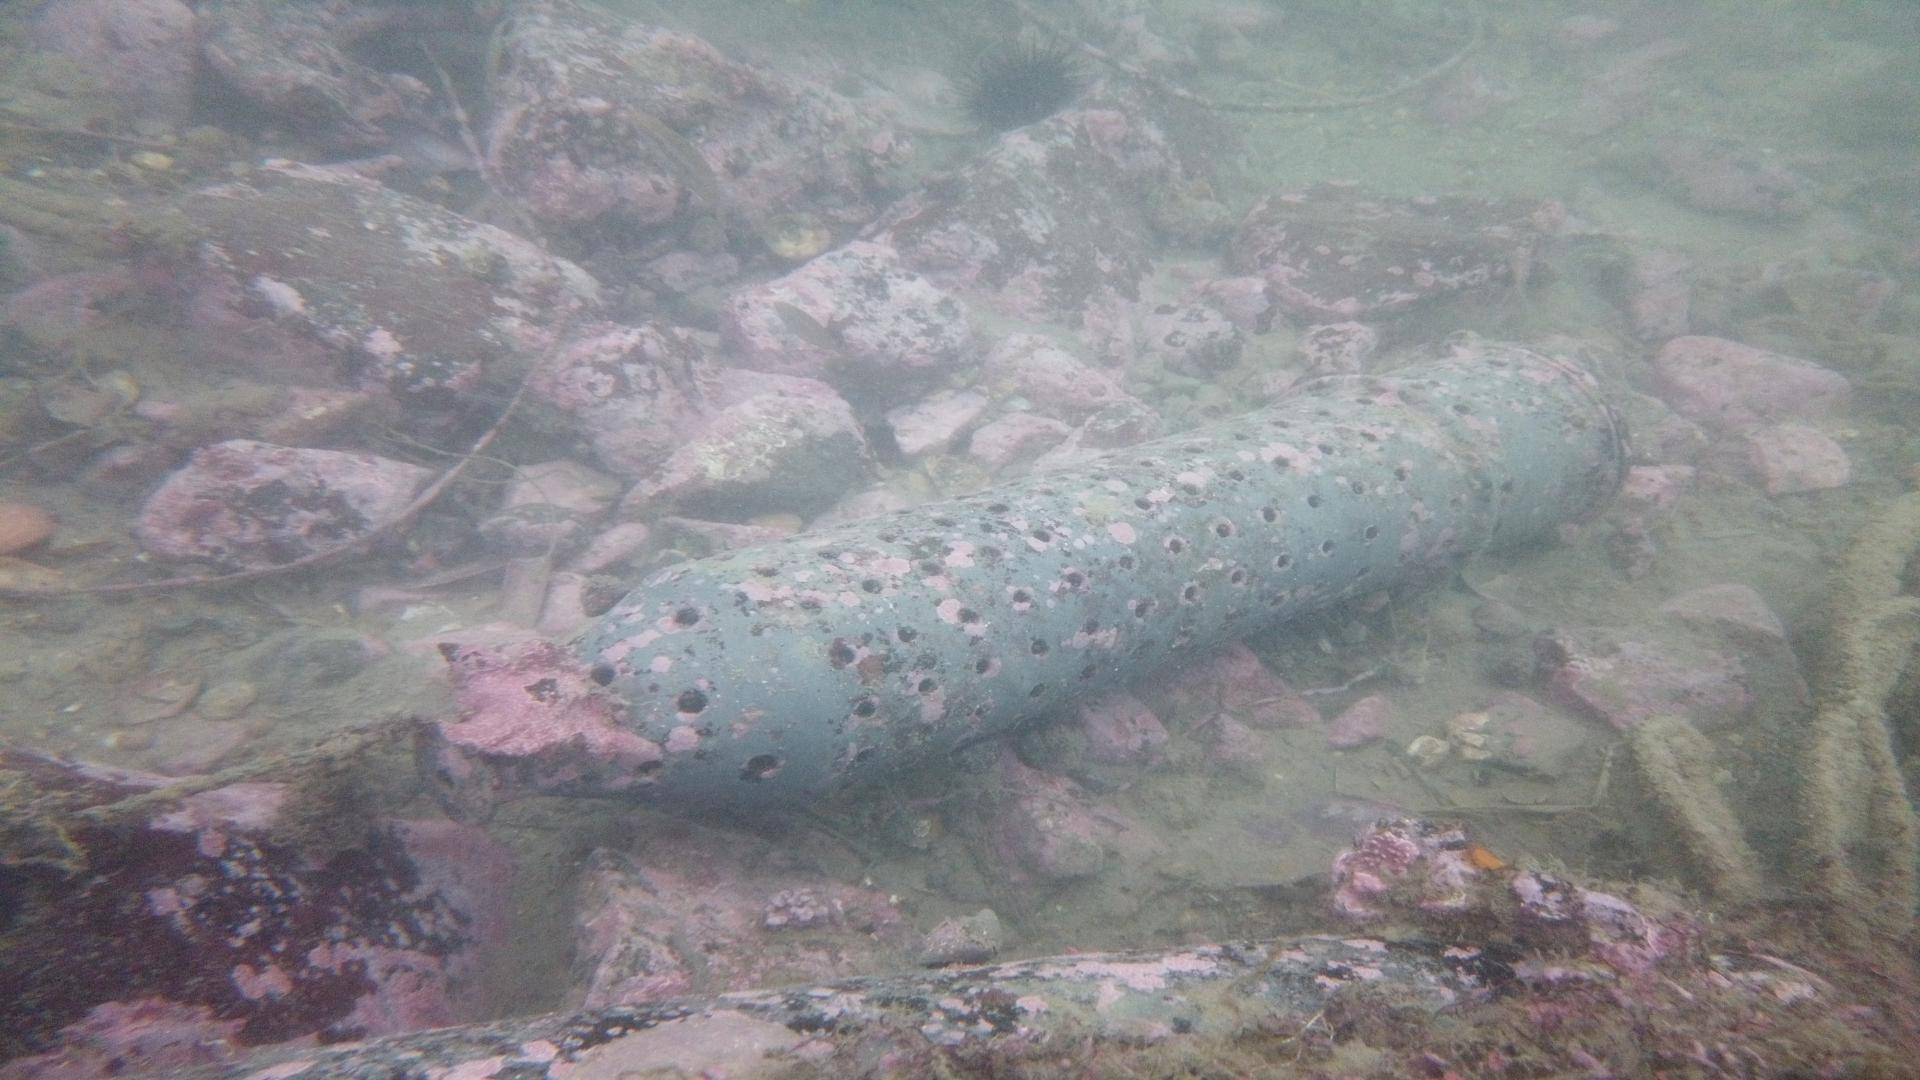eel fish trap: (551, 339, 1633, 814)
